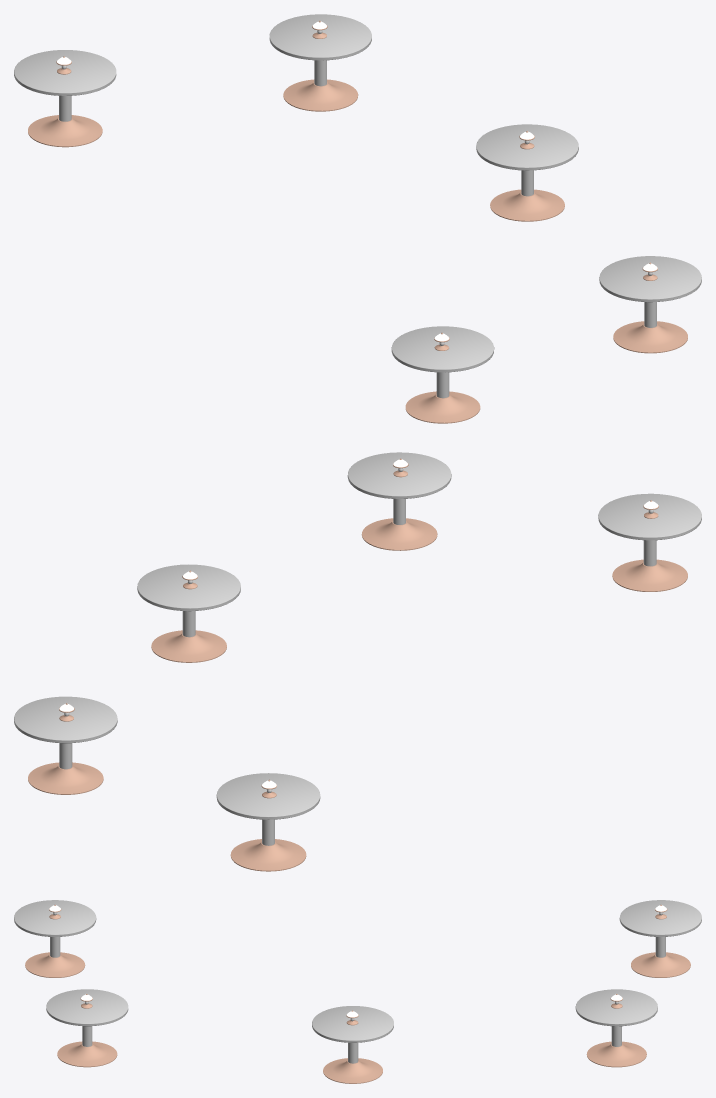
The model's file is TABLES.glb.
3 renders of one model, top to bottom at view 1: azimuth 30°, elevation 25°; view 2: azimuth 150°, elevation 25°; view 3: azimuth 270°, elevation 25°, orthographic. The views are drawn at different scales.
Parts seen in each view (by area): view 1: 3-TABLES; view 2: 3-TABLES; view 3: 3-TABLES.
Boxes of the visible parts, left/top/right/bottom form: 3-TABLES: left=14, top=14, right=701, bottom=423; 3-TABLES: left=14, top=452, right=701, bottom=871; 3-TABLES: left=14, top=900, right=701, bottom=1083.
Bounding box in the file's own units: 4.86 × 0.9762 × 10.05.
